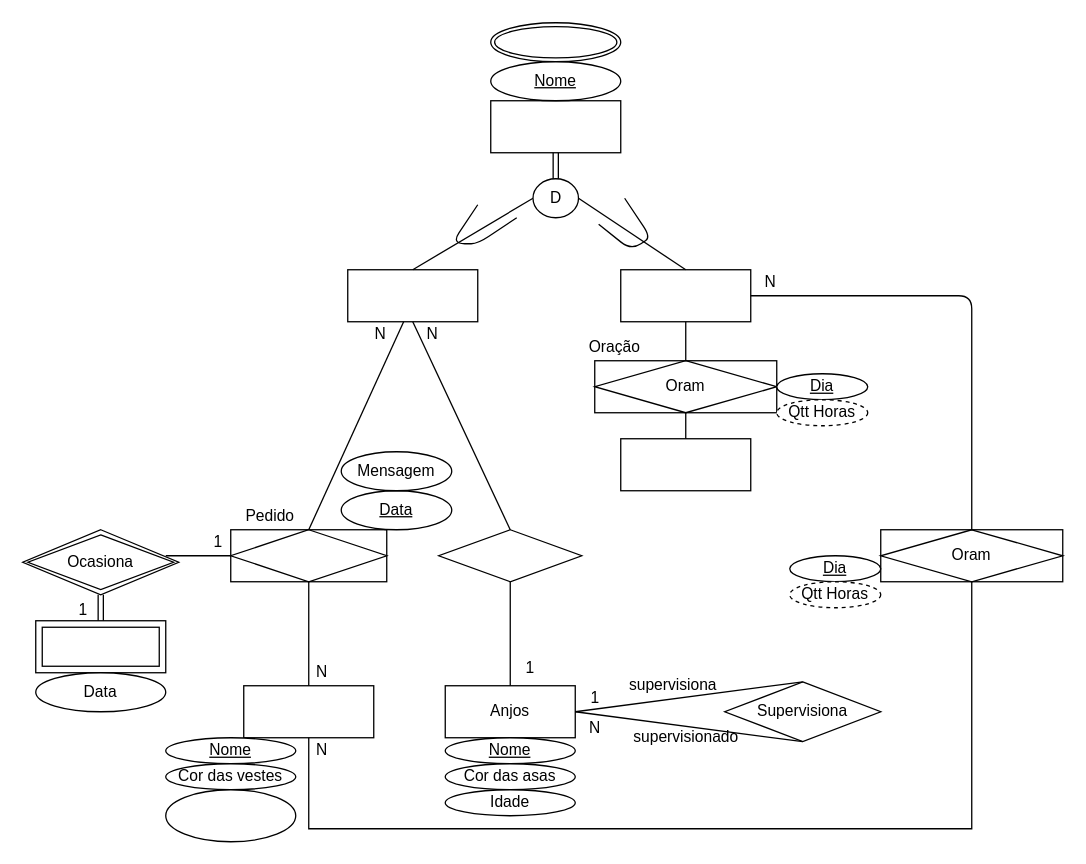
This 1086x864 diagram has some shape labels left out. Here are the shapes that lost their labels. From the top down, the centre of each, then its label:
At (555,41): "Pecados".
At (555,126): "Humano".
At (412,295): "Mortais".
At (685,295): "Moradores comuns".
At (685,464): "Deus".
At (308,555): "Atendem".
At (509,555): "Guarda".
At (100,646): "Milagre".
At (308,711): "Santos".
At (230,815): "Tempo beatificação".
